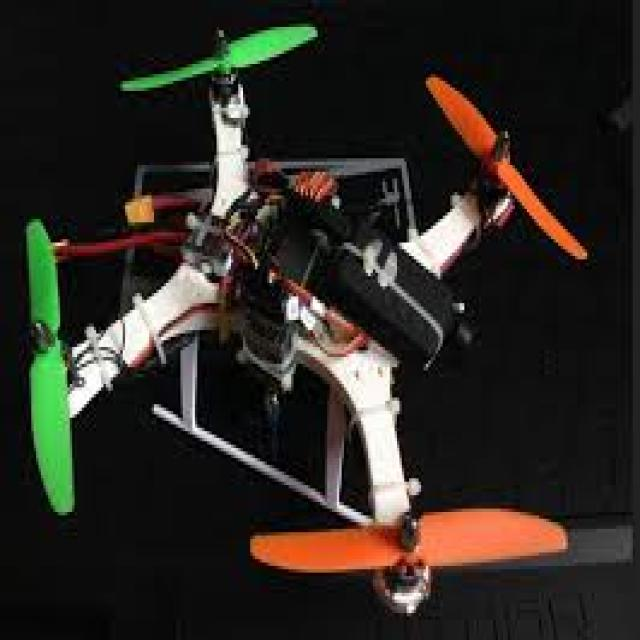drone: (0, 22, 568, 617)
